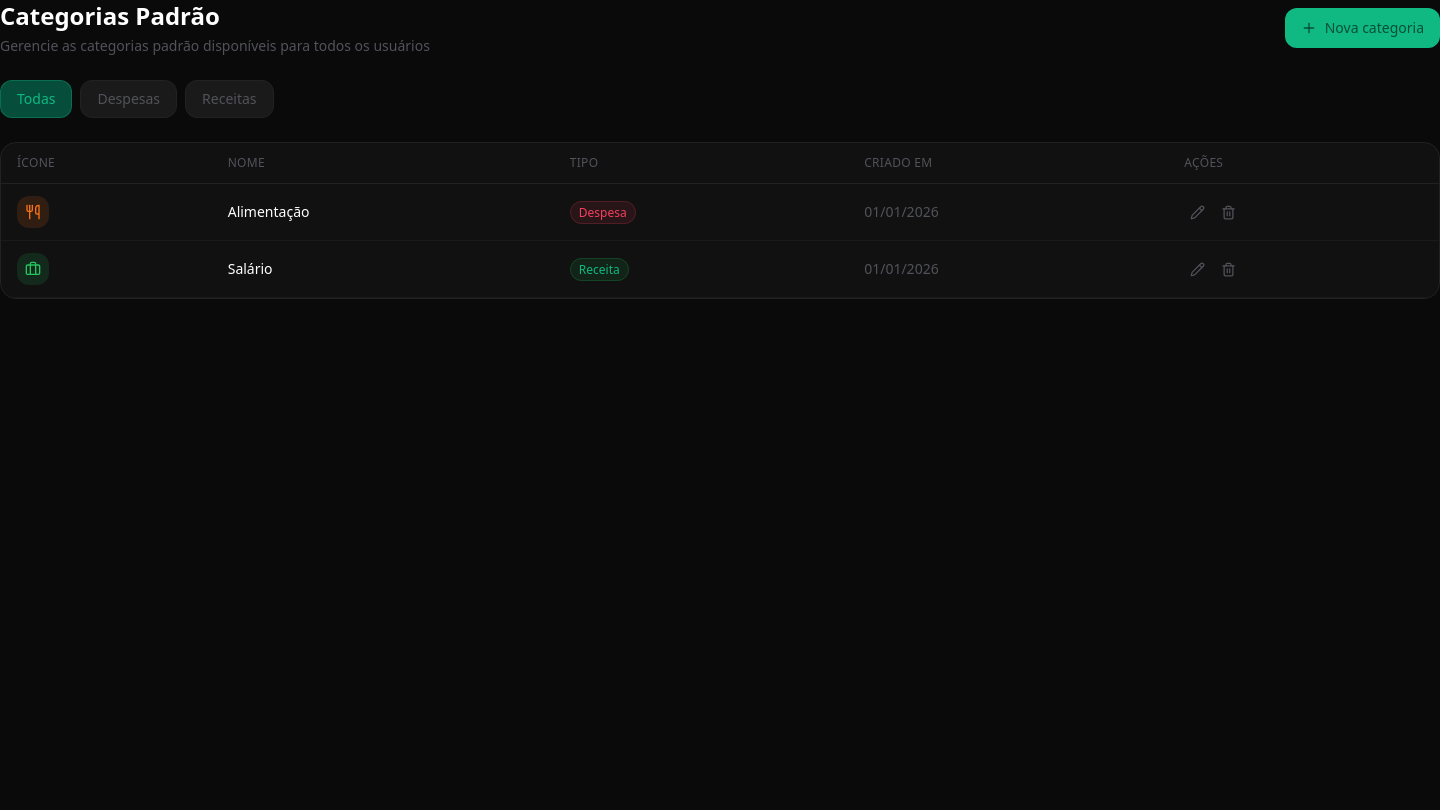
AdminCategoriesPage › deve abrir modal de edição ao clicar em editar
This screenshot has width=1440, height=810.
Click the button titled "Editar" in the row of "Alimentação" at coordinates (1198, 212), box [1184, 198, 1211, 226]
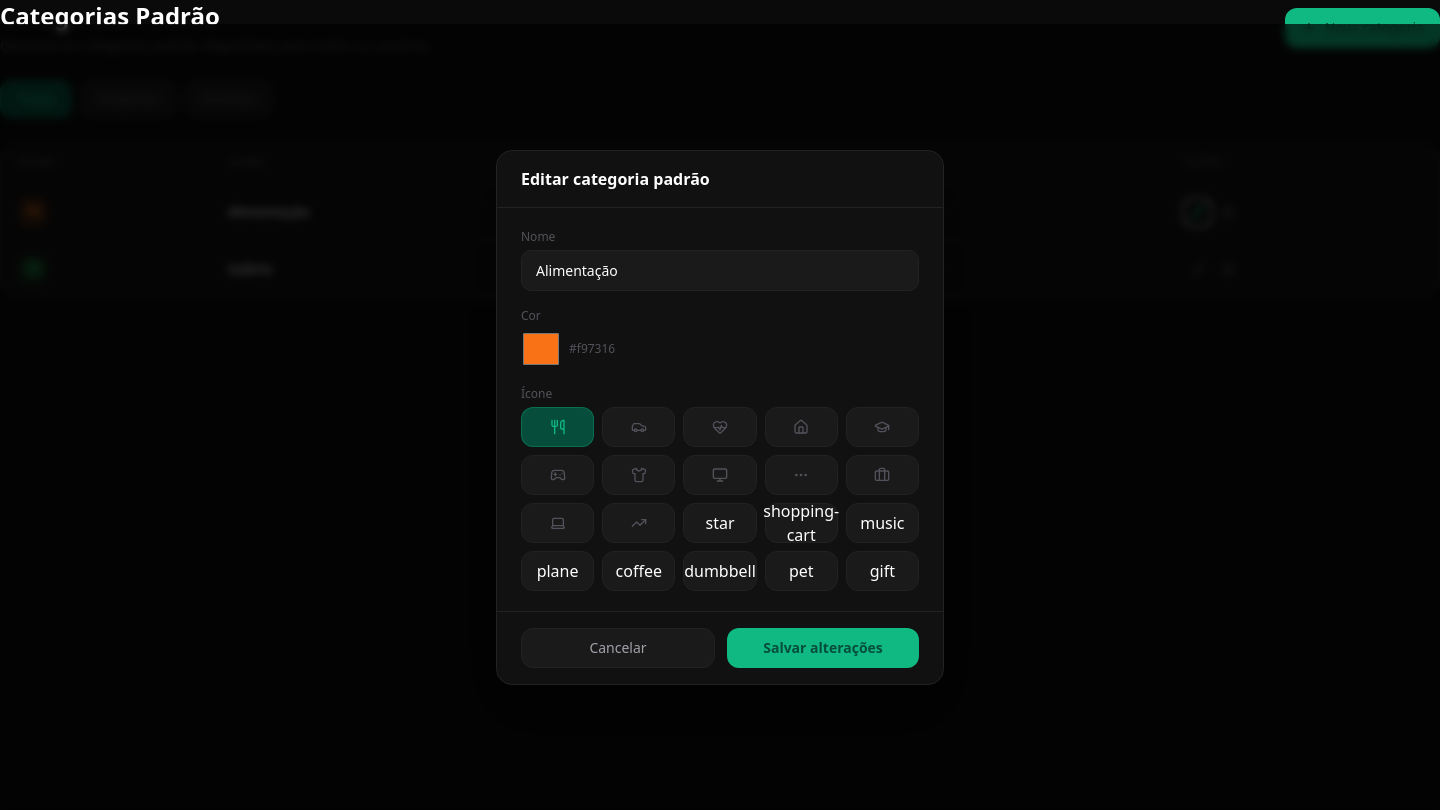
Check: the heading "Editar categoria padrão" is shown, box [521, 168, 710, 190]
